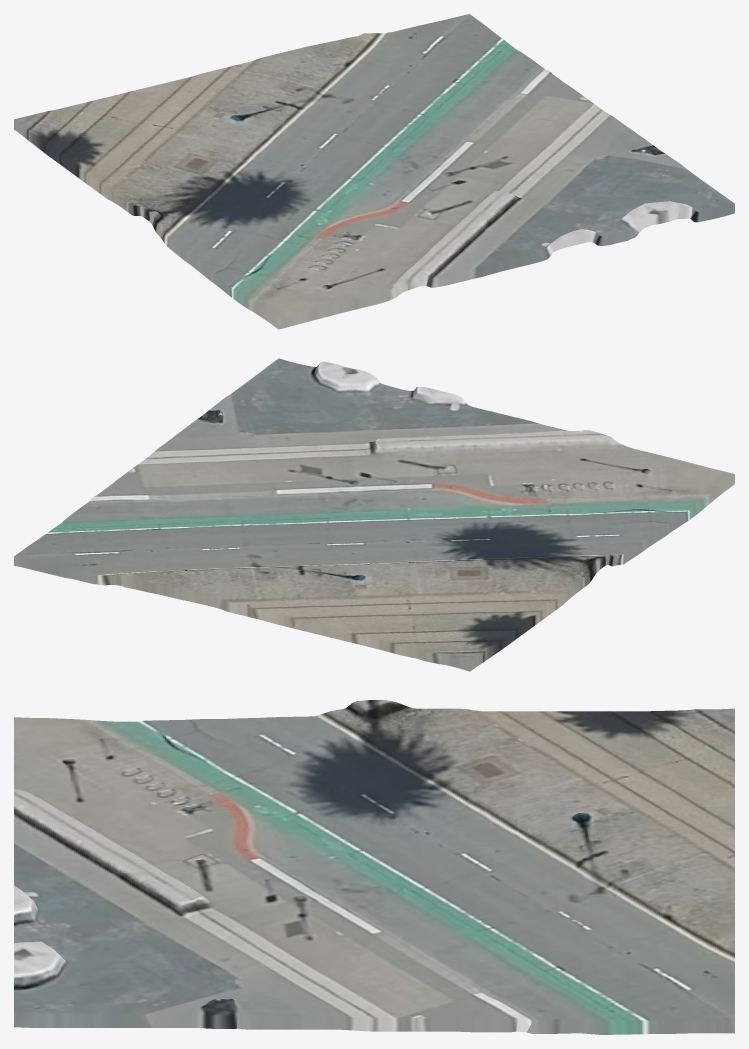
File: z20-167776-405202-h0-yup-uvflip-v3-world.glb
3 views of the same model, one above another, from view 1: azimuth 30°, elevation 25°; view 2: azimuth 150°, elevation 25°; view 3: azimuth 270°, elevation 25° (orthographic). The views are drawn at different scales.
Size of the model in its own units: 30.16 by 1.6 by 30.32.
1 material, 1 textured.
